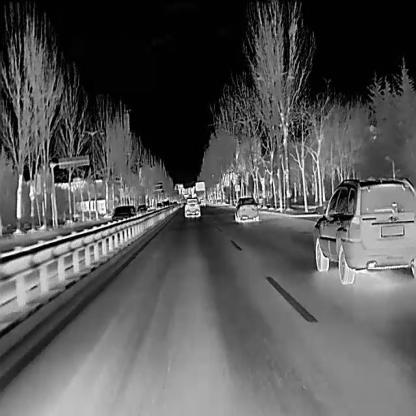car: (313, 176, 415, 284), (233, 193, 258, 222), (110, 204, 136, 227), (183, 195, 201, 216), (135, 203, 150, 217), (156, 200, 162, 210), (200, 198, 204, 206), (168, 202, 172, 206), (172, 200, 176, 204)
